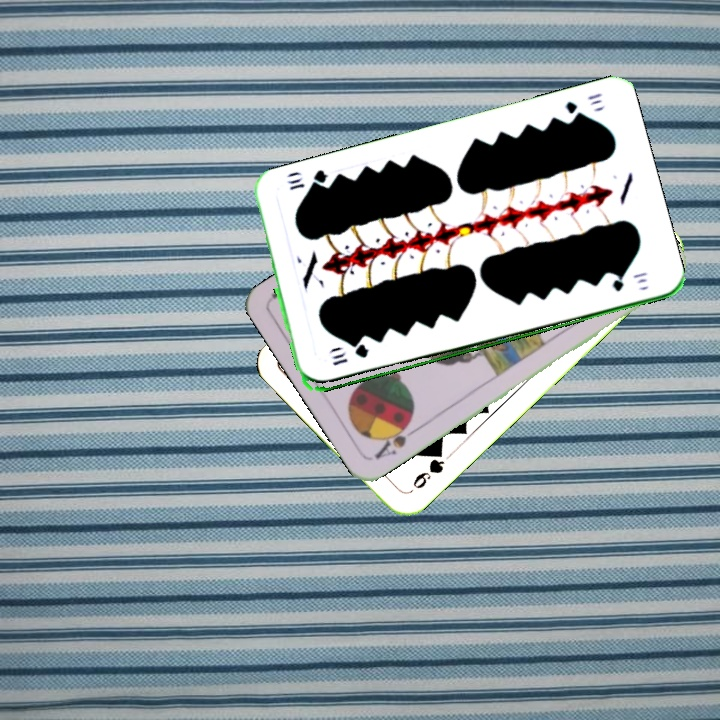G10: (561, 88, 604, 122), (328, 343, 372, 368)
G9: (408, 444, 447, 492)
SA: (370, 416, 422, 462)
